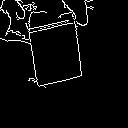cube: (23, 15, 91, 87)
